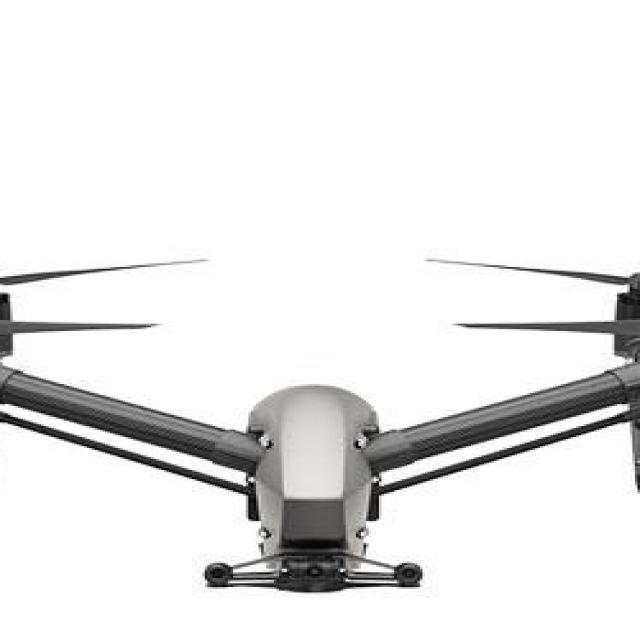drone: (0, 238, 640, 587)
